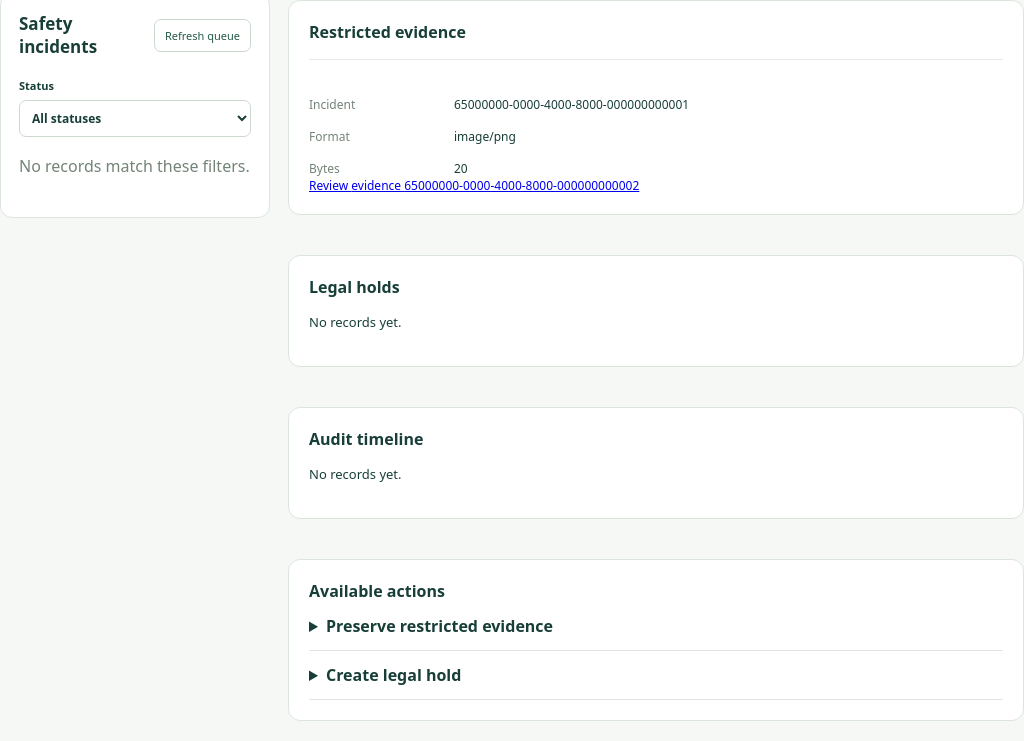
Test: an incident hold is limited to reviewed evidence from that incident
(page scrolled)
Step 1. Click the heading "Create legal hold" → (394, 675), box [326, 664, 461, 686]
(page scrolled)
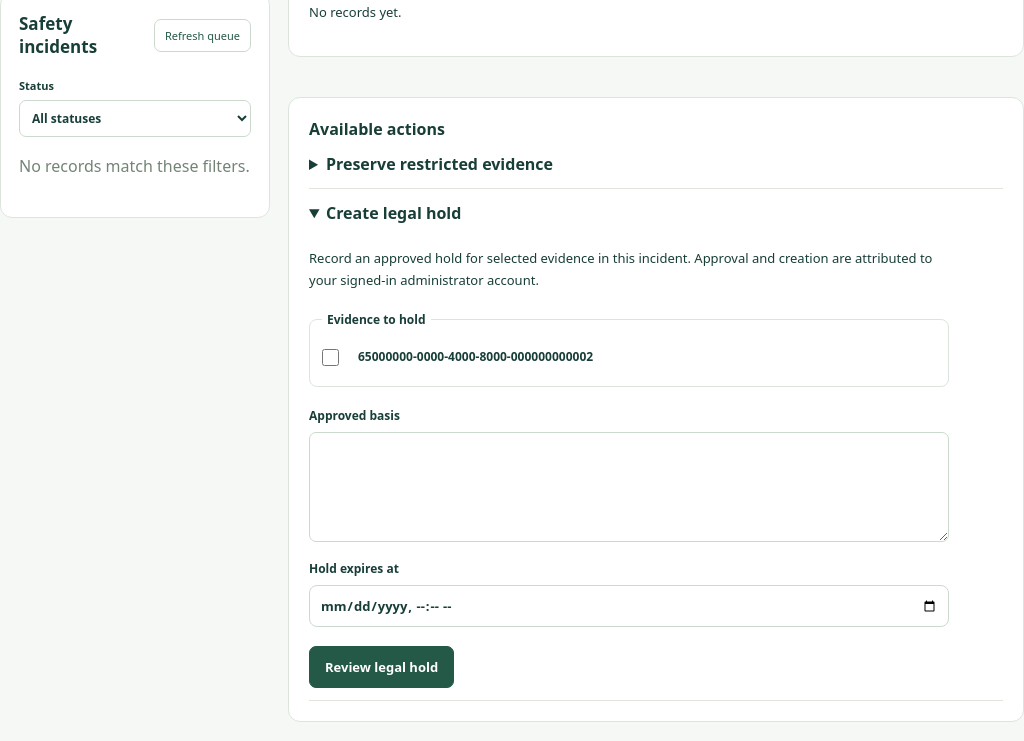
Step 2. Click the checkbox labelled "65000000-0000-4000-8000-000000000002" → (330, 357), box [322, 349, 339, 366]
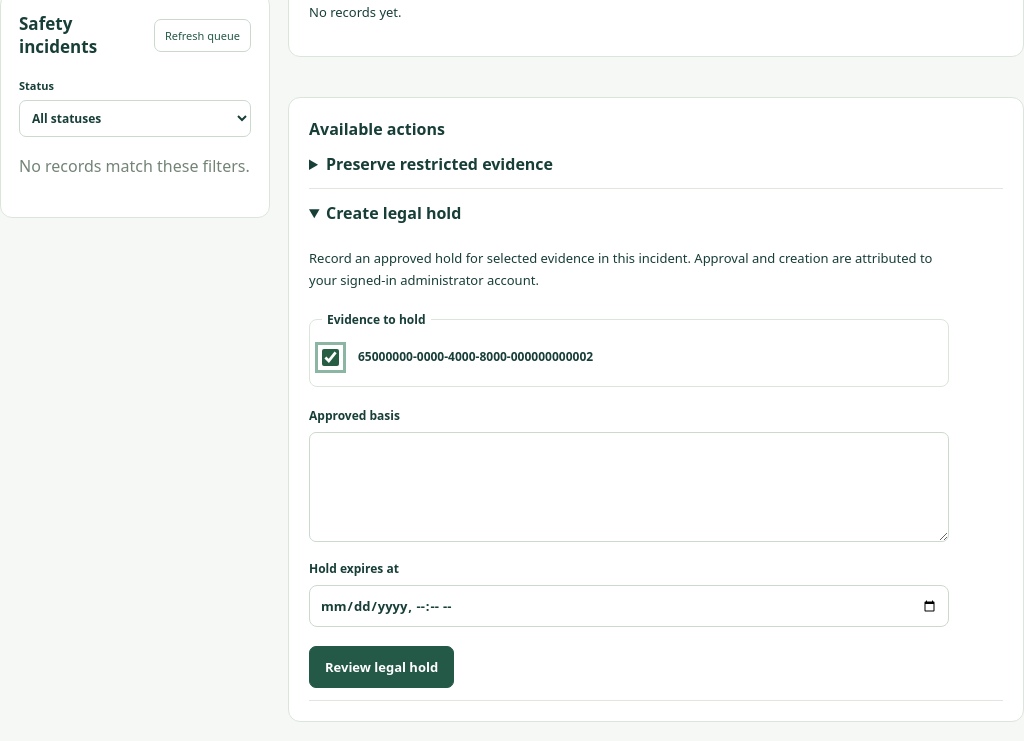
Step 3. Type "Synthetic approved preservation basis" into the text box labelled "Approved basis" → (629, 487), box [309, 432, 949, 542]
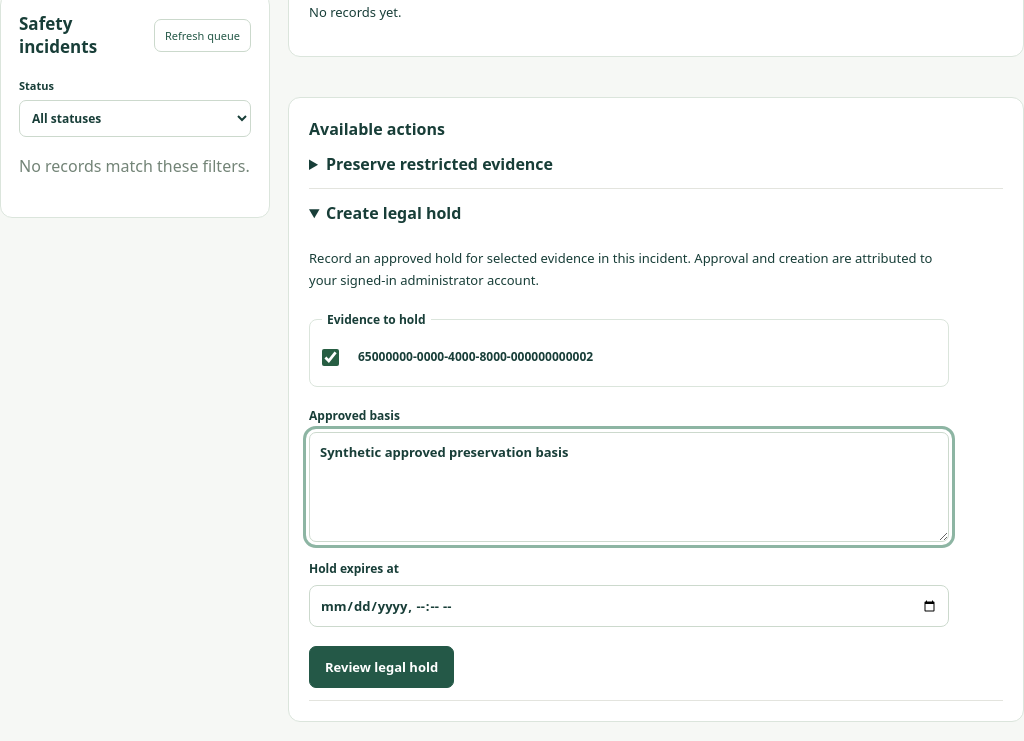
Step 4. Type "2031-01-02T10:00" into the field labelled "Hold expires at" → (629, 606), box [309, 585, 949, 627]
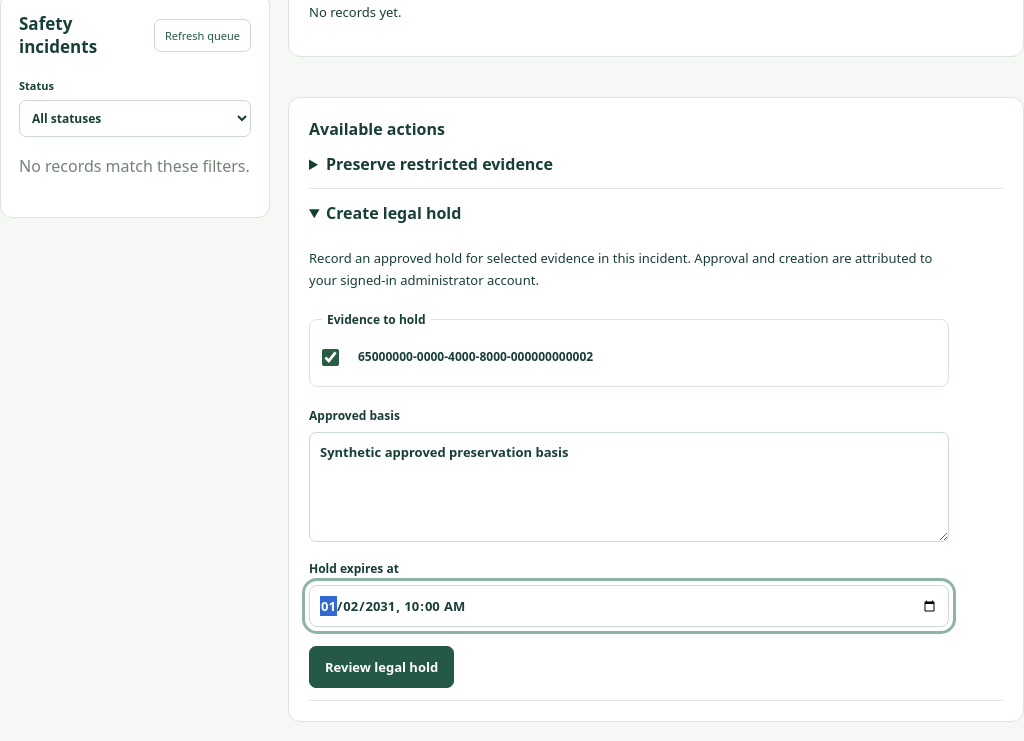
Step 5. Click the button "Review legal hold" → (382, 667), box [309, 646, 454, 688]
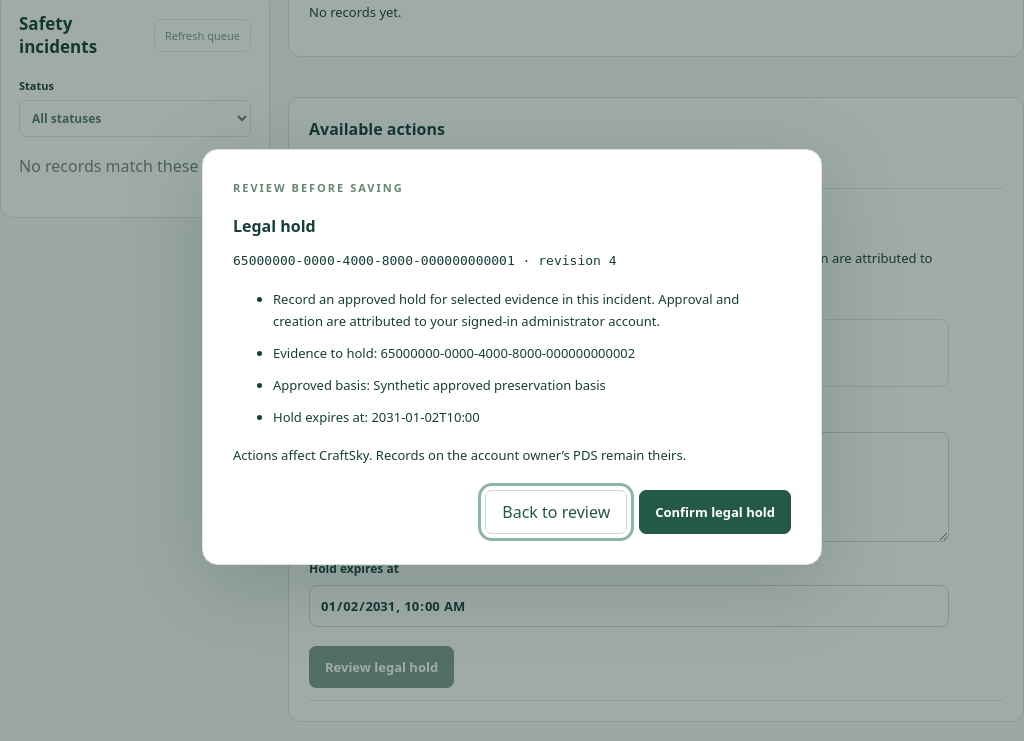
Step 6. Click the button "Confirm legal hold" → (715, 512), box [639, 490, 791, 534]
(page scrolled)
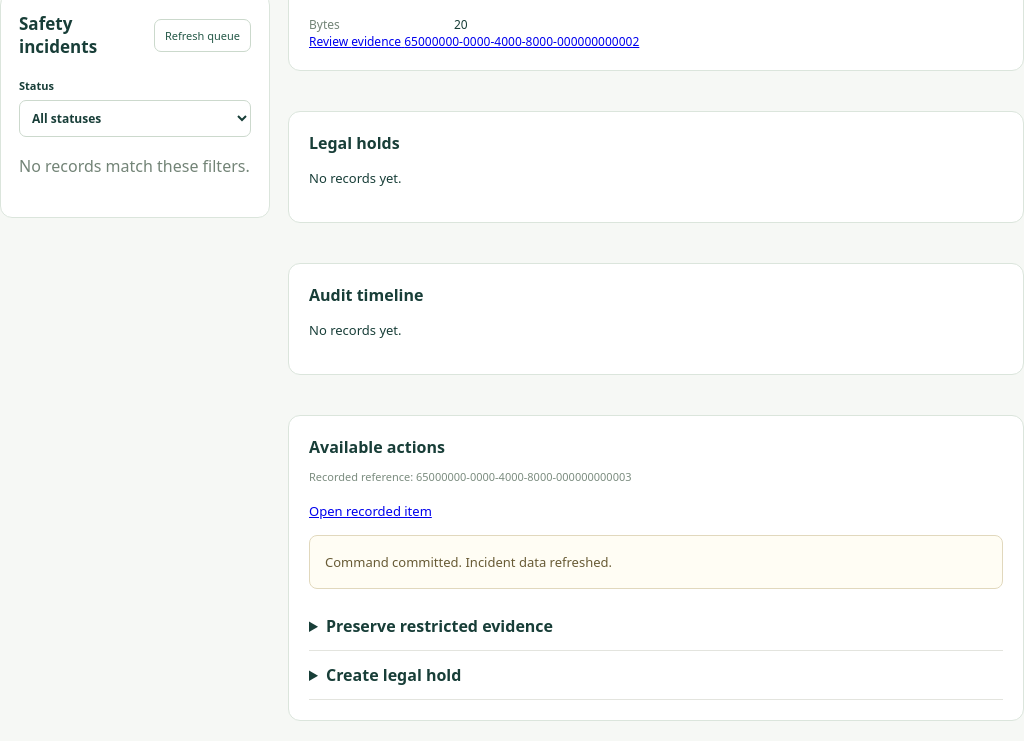
Expected: the text "Command committed. Incident data refreshed." is shown, [309, 535, 1003, 589]
